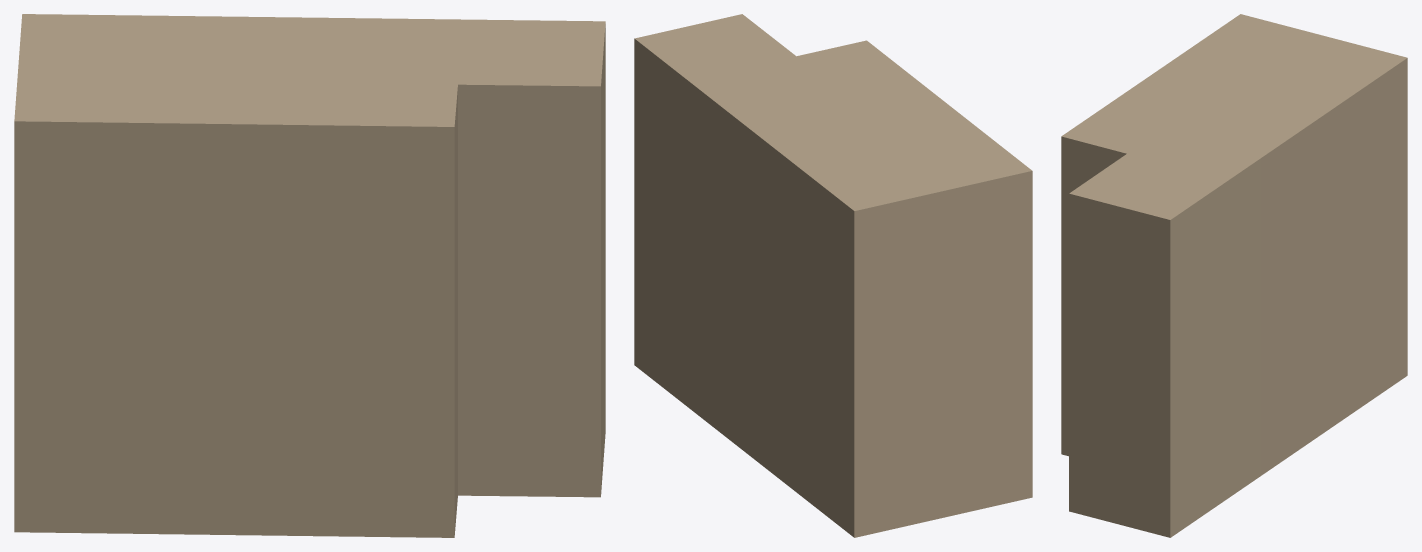
The model's file is bld_101791718.dae.
3 views of the same model, side by side, from view 1: azimuth 30°, elevation 25°; view 2: azimuth 150°, elevation 25°; view 3: azimuth 270°, elevation 25° (orthographic). The views are drawn at different scales.
Visible parts, largest first — view 1: bld_101791718; view 2: bld_101791718; view 3: bld_101791718.
Boxes of the visible parts, box(x1,y1,x2,y2) form: bld_101791718: box(14, 14, 605, 537); bld_101791718: box(634, 14, 1032, 537); bld_101791718: box(1061, 14, 1407, 537).
Bounding box in the file's own units: 11.12 × 7.9 × 8.
